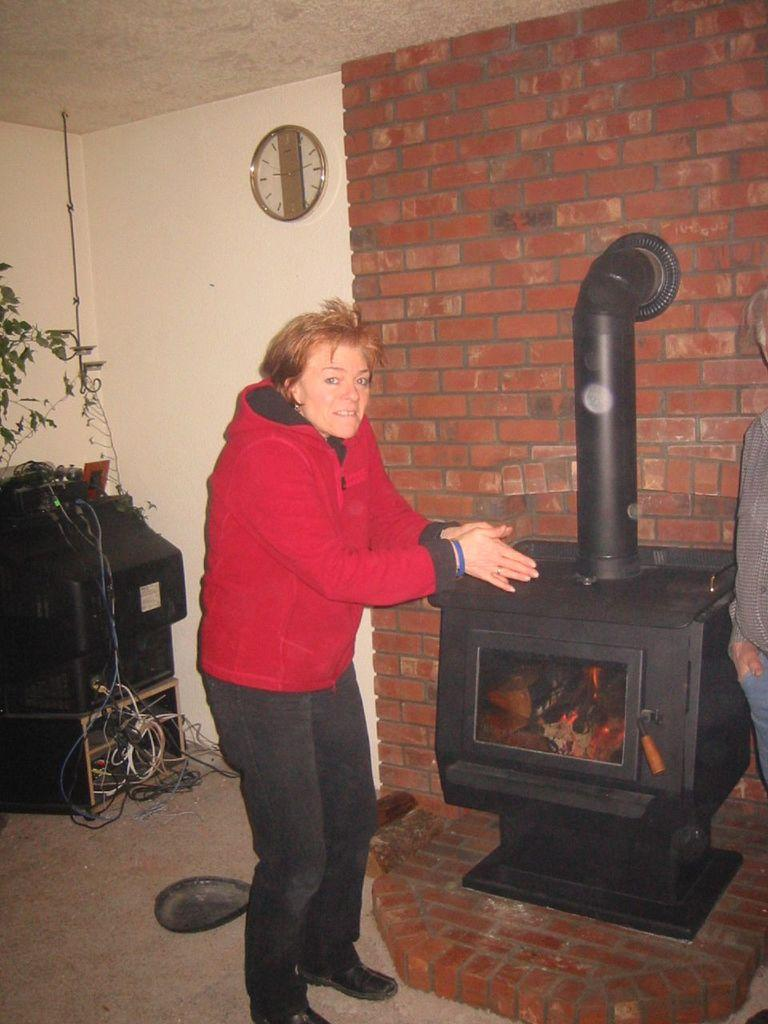fire: (515, 663, 628, 764)
